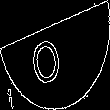O_N: (37, 25, 73, 85)
